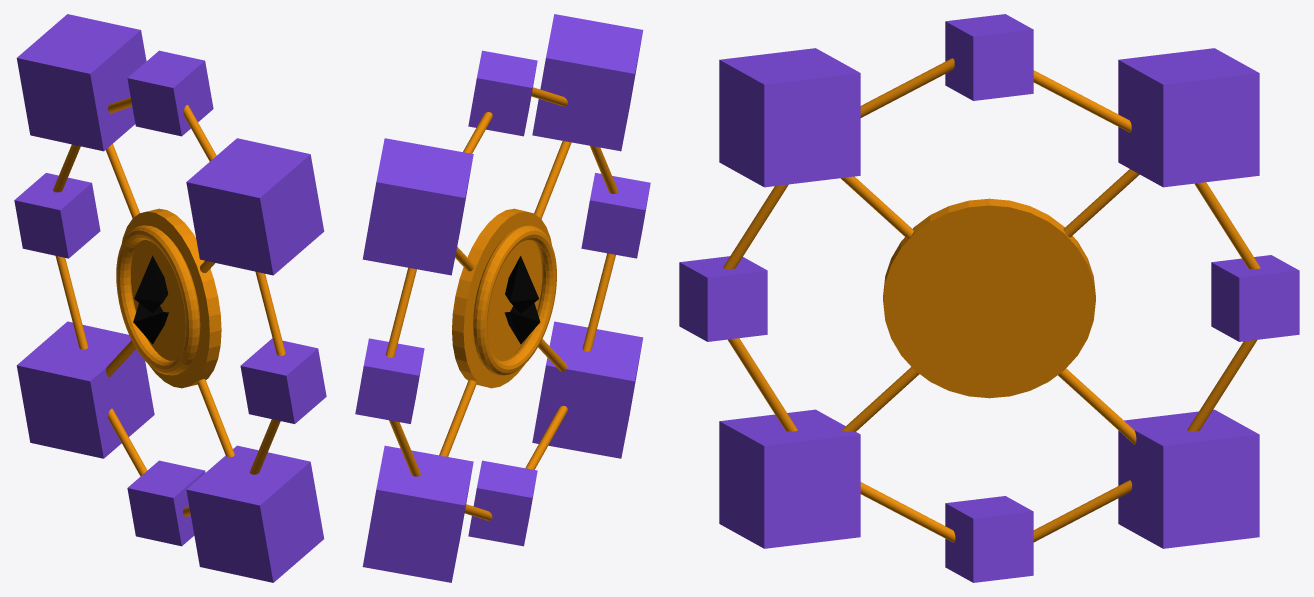
3 renders of one model, left to right at view 1: azimuth 30°, elevation 25°; view 2: azimuth 150°, elevation 25°; view 3: azimuth 270°, elevation 25°, orthographic. The views are drawn at different scales.
Parts seen in each view (by area): view 1: Cube.006, Cube.007, Cube.005, Cube.004, Cylinder, Cube, Cube.001, Cube.002, Torus.003, Cube.003, Cone, Cylinder.003 (+7 smaller); view 2: Cube.004, Cube.005, Cube.006, Cube.007, Cylinder, Torus.003, Cube.001, Cube.002, Cube.003, Cube, Cone, Cylinder.004 (+7 smaller); view 3: Cylinder, Cube.006, Cube.004, Cube.007, Cube.005, Cube.002, Cube.003, Cube.001, Cube, Cylinder.008, Cylinder.006, Cylinder.004 (+9 smaller).
Part boxes in pixels (x1,y1,x2,y2): Cube.006: (186,138,324,275); Cube.007: (186,445,324,582); Cube.005: (16,321,154,458); Cube.004: (16,14,146,151); Cylinder: (122,208,221,388); Cube: (240,338,326,423); Cube.001: (14,173,100,258); Cube.002: (127,50,213,136); Torus.003: (116,225,200,375); Cube.003: (127,460,205,546); Cone: (133,255,168,344); Cylinder.003: (55,256,88,349); Cube.004: (362,138,473,275); Cube.005: (362,445,473,582); Cube.006: (532,14,643,151); Cube.007: (532,321,643,458); Cylinder: (452,208,551,388); Torus.003: (473,225,556,375); Cube.001: (355,338,424,423); Cube.002: (468,50,537,136); Cube.003: (468,460,537,546); Cube: (581,173,650,258); Cone: (504,256,540,344); Cylinder.004: (582,253,615,351); Cylinder: (883,198,1095,398); Cube.006: (719,48,860,187); Cube.004: (1118,48,1259,187); Cube.007: (719,409,860,548); Cube.005: (1118,409,1259,548); Cube.002: (945,14,1033,100); Cube.003: (945,496,1033,582); Cube.001: (1211,255,1299,341); Cube: (679,256,767,341); Cylinder.008: (1033,480,1132,542); Cylinder.006: (1033,70,1131,132); Cylinder.004: (728,338,797,431).
Size of the model in its own units: 5.93 by 23.04 by 23.32.
